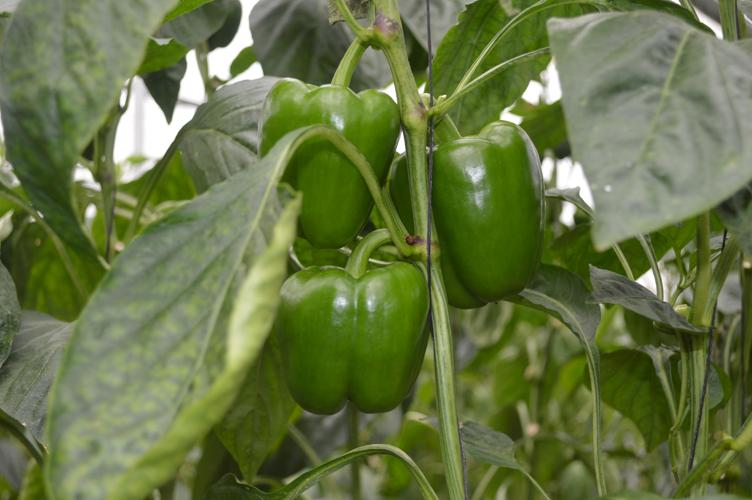BellPepper: (389, 131, 550, 316), (264, 255, 430, 431), (249, 71, 399, 255)
